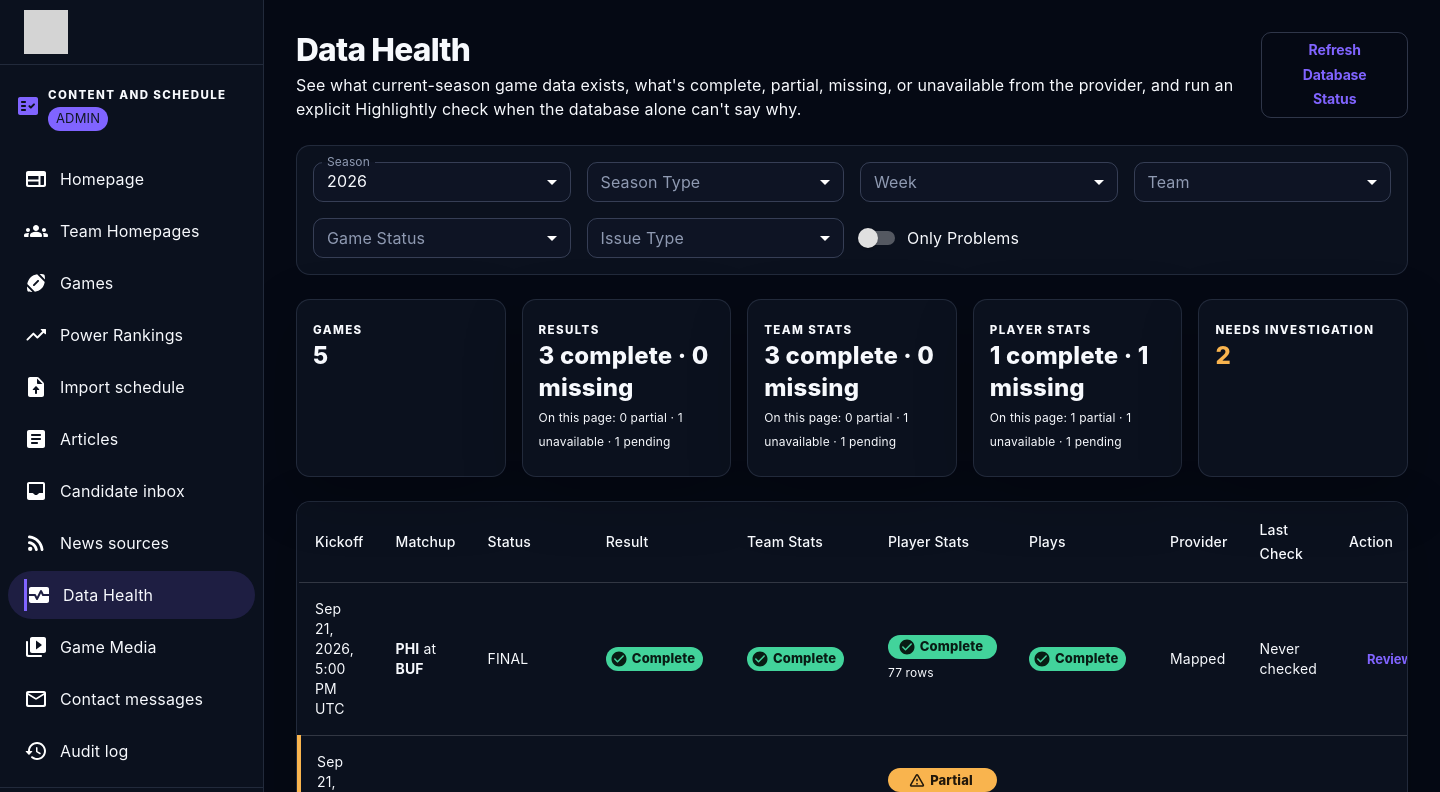
Scenario: Admin Data Health › keeps existing detail data visible and shows a scoped error when a probe fails
Expected: the heading "Data Health" is shown, [296,30,470,69]
Click the button "Review" in the row of "77 rows" at (1390, 659), box [1349,638,1430,680]
(page scrolled)
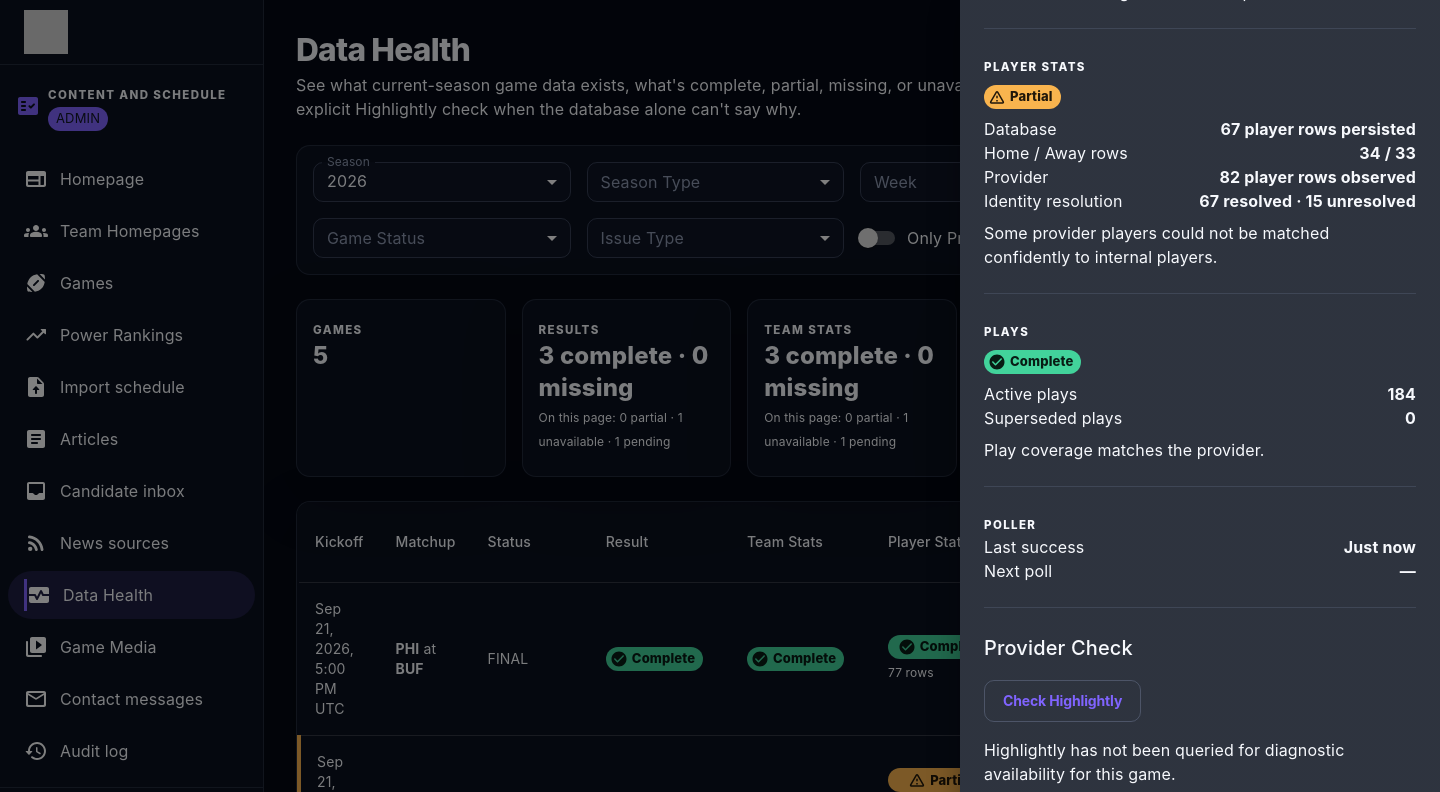
Expected: the button "Check Highlightly" is shown
Click the button "Check Highlightly" at (1063, 701), box [984,680,1141,722]
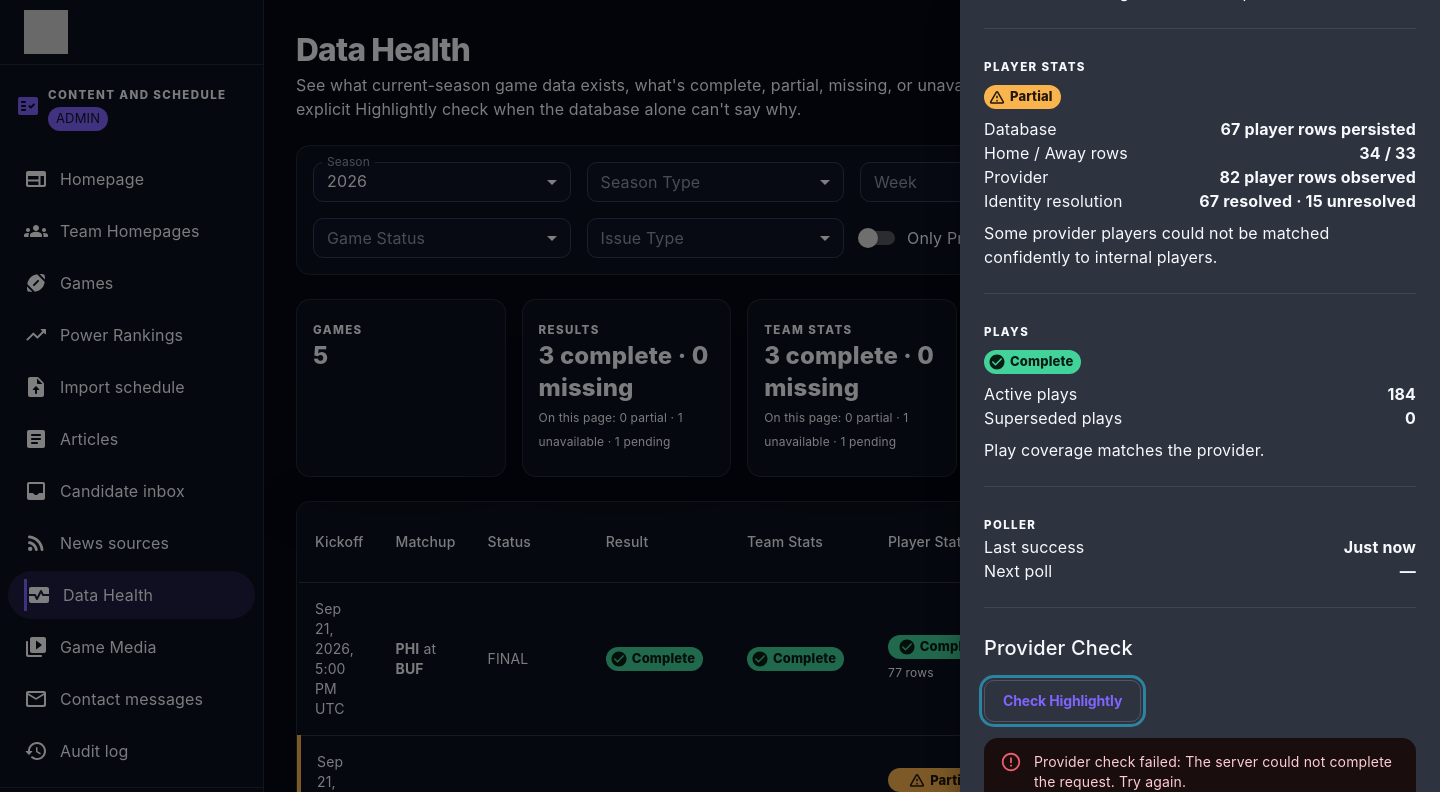
Expected: the text "Home / Away rows" is shown, [984,141,1128,165]
Expected: the text "Provider check failed" is shown, [1034,753,1185,770]
